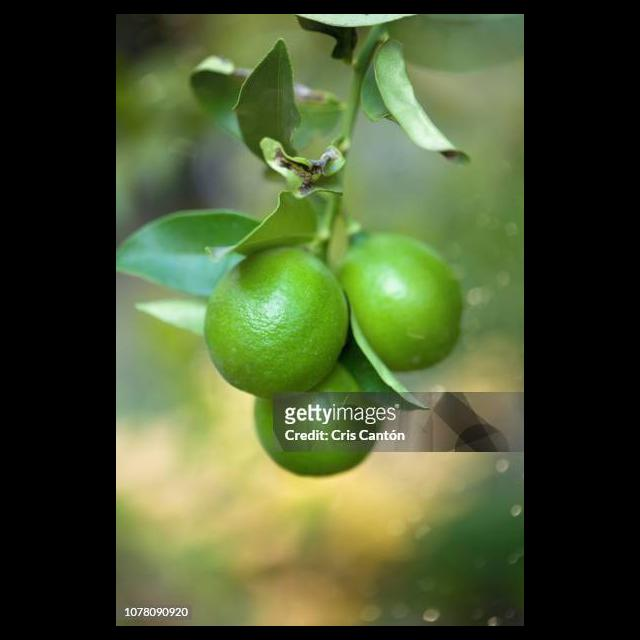lime: (203, 246, 348, 402), (336, 234, 462, 372)
